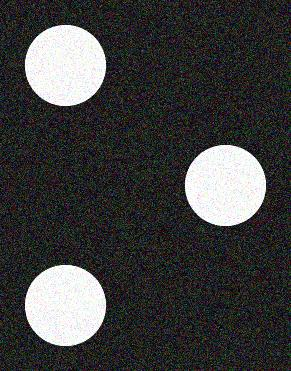O: (19, 18, 271, 351)
